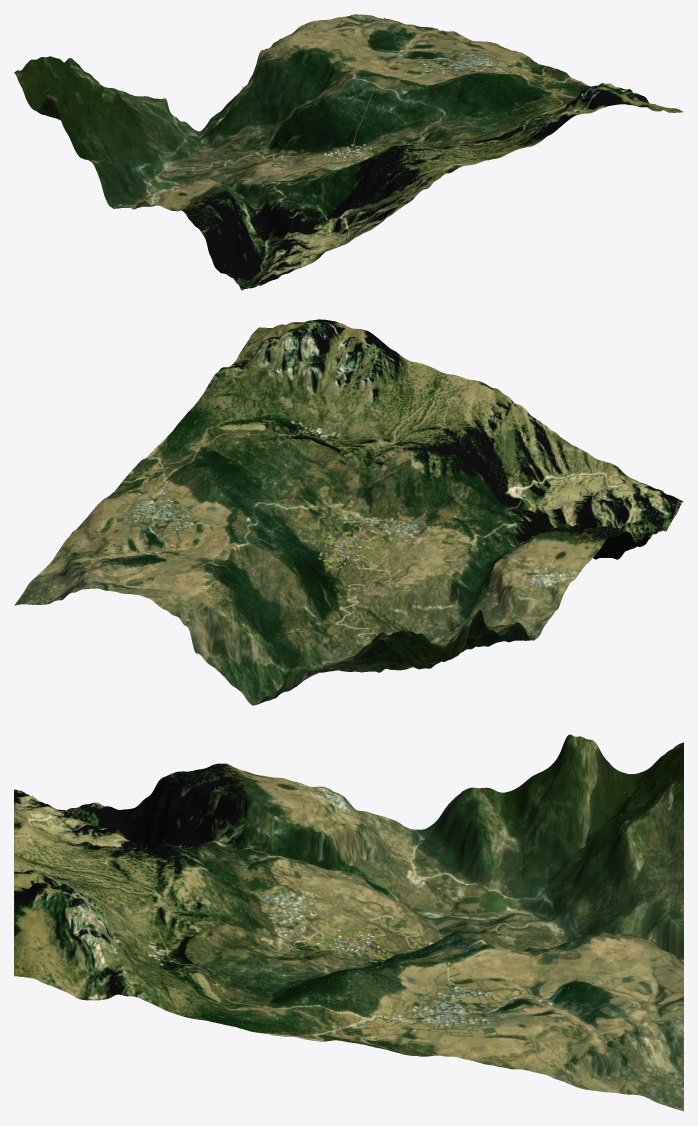
3 renders of one model, top to bottom at view 1: azimuth 30°, elevation 25°; view 2: azimuth 150°, elevation 25°; view 3: azimuth 270°, elevation 25°, orthographic. The views are drawn at different scales.
Parts seen in each view (by area): view 1: Terrain, ConiferForest; view 2: Terrain, ConiferForest; view 3: Terrain, ConiferForest.
Part boxes in pixels (<box>): Terrain: <box>14,14,683,290</box>; ConiferForest: <box>59,17,662,278</box>; Terrain: <box>14,319,683,705</box>; ConiferForest: <box>38,320,668,668</box>; Terrain: <box>14,734,683,1111</box>; ConiferForest: <box>24,753,676,1085</box>.
Size of the model in its own units: 3034 by 1177 by 3034.
Materials: 21 (1 with a texture image).
